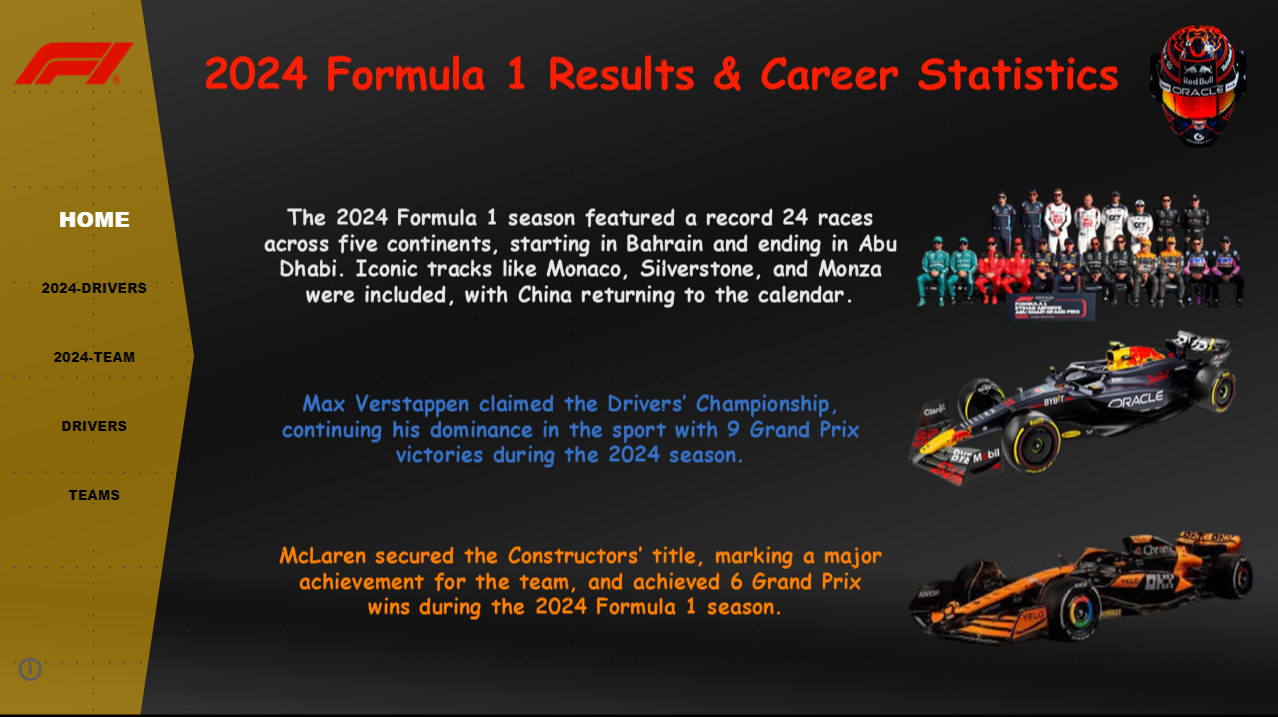

This screenshot's page, from the dashboard's own definition file:
{"tool":"powerbi","page":{"name":"HOME","canvas":[1280,720],"ordinal":0},"visuals":[{"type":"actionButton","box":[16,656,48,32],"z":0},{"type":"pageNavigator","box":[16,192,160,336],"z":1000}]}

Visuals, with their boxes in screenshot pixels (x1, y1, x2, y2), scaled from the page's 1280x720 canvas onto the 1278x717 screenshot:
actionButton: 16 653 64 685
pageNavigator: 16 191 176 526
